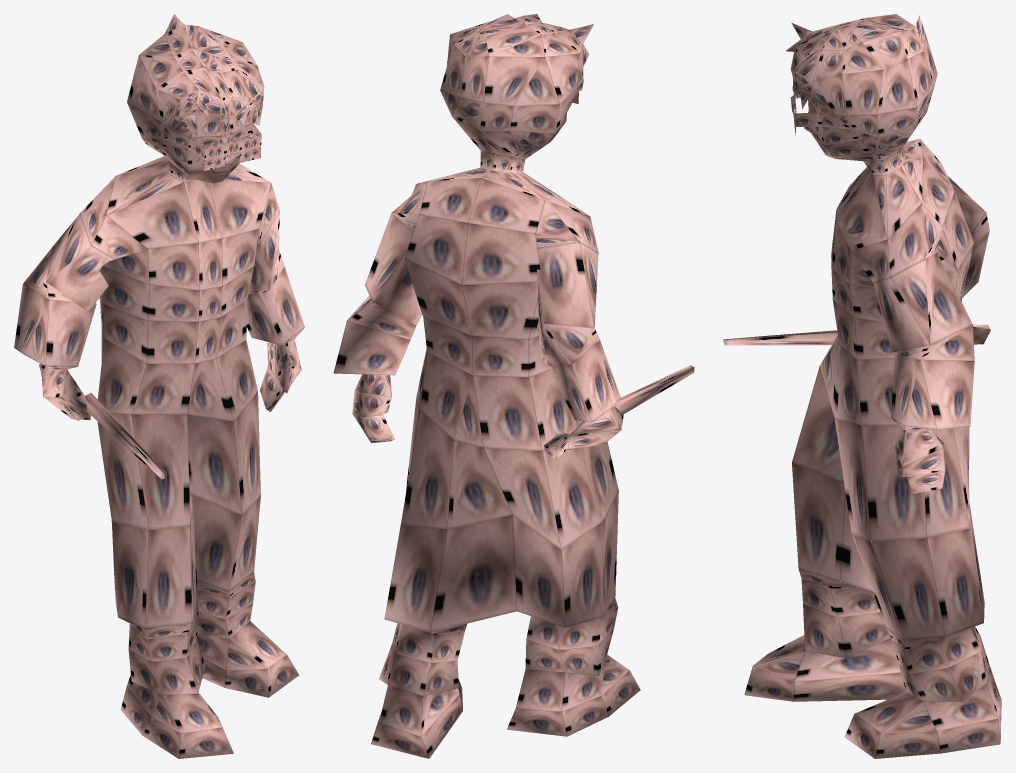
3 renders of one model, left to right at view 1: azimuth 30°, elevation 25°; view 2: azimuth 150°, elevation 25°; view 3: azimuth 270°, elevation 25°, orthographic. The views are drawn at different scales.
Visible parts, largest first — view 1: T1L8M008_0; view 2: T1L8M008_0; view 3: T1L8M008_0.
Boxes of the visible parts, x1,y1,x2,y2 form: T1L8M008_0: (14,14,304,758); T1L8M008_0: (333,14,694,758); T1L8M008_0: (723,14,1001,758).
Size of the model in its own units: 0.5766 by 1.39 by 0.5066.
1 material, 1 textured.
